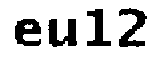1: (83, 6, 113, 51)
2: (117, 6, 152, 53)
e: (12, 16, 43, 48)
u: (46, 15, 81, 51)
